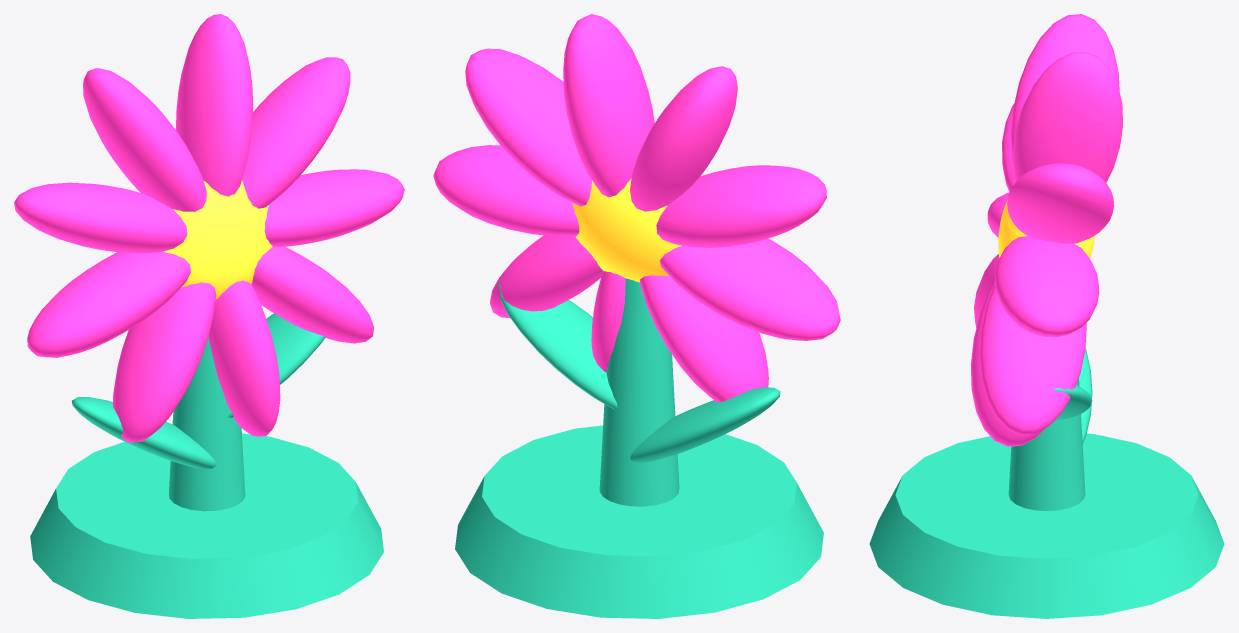
Rendered from cosmic-flower.glb.
3 views of the same model, side by side, from view 1: azimuth 30°, elevation 25°; view 2: azimuth 150°, elevation 25°; view 3: azimuth 270°, elevation 25° (orthographic). The views are drawn at different scales.
Parts seen in each view (by area): view 1: Base, Petalo_3, Petalo_6, Petalo_7, Petalo_2, Petalo_4, Petalo_5, Petalo_8, Petalo_1, Tallo, Petalo_9, Nucleo (+2 smaller); view 2: Base, Petalo_6, Tallo, Petalo_3, Petalo_2, Petalo_5, Petalo_4, Petalo_7, Petalo_1, Nucleo, Petalo_9, Hoja_derecha (+2 smaller); view 3: Base, Petalo_3, Petalo_9, Petalo_1, Petalo_2, Tallo, Petalo_4, Petalo_8, Nucleo, Hoja_derecha, Petalo_5, Petalo_7 (+2 smaller).
Boxes of the visible parts, box(x1,y1,x2,y2) form: Base: box(30, 433, 383, 618); Petalo_3: box(176, 14, 253, 196); Petalo_6: box(27, 251, 190, 357); Petalo_7: box(113, 282, 216, 442); Petalo_2: box(242, 57, 350, 208); Petalo_4: box(83, 68, 206, 211); Petalo_5: box(14, 182, 187, 253); Petalo_8: box(208, 280, 280, 436); Petalo_1: box(264, 169, 404, 246); Tallo: box(168, 337, 245, 511); Petalo_9: box(251, 246, 373, 343); Nucleo: box(163, 180, 272, 299); Base: box(455, 425, 823, 618); Petalo_6: box(660, 238, 840, 340); Tallo: box(599, 278, 679, 506); Petalo_3: box(563, 14, 654, 197); Petalo_2: box(465, 48, 591, 206); Petalo_5: box(656, 165, 826, 247); Petalo_4: box(630, 66, 737, 211); Petalo_7: box(640, 275, 768, 402); Petalo_1: box(433, 145, 579, 236); Nucleo: box(572, 178, 681, 282); Petalo_9: box(490, 235, 603, 318); Hoja_derecha: box(498, 282, 617, 409); Base: box(869, 433, 1224, 618); Petalo_3: box(1012, 52, 1122, 182); Petalo_9: box(979, 285, 1086, 434); Petalo_1: box(995, 236, 1099, 337); Petalo_2: box(1007, 163, 1114, 243); Tallo: box(1008, 378, 1085, 510); Petalo_4: box(1011, 14, 1119, 164); Petalo_8: box(971, 282, 1044, 446); Nucleo: box(998, 200, 1094, 258); Hoja_derecha: box(1053, 385, 1092, 420); Petalo_5: box(1002, 103, 1015, 192); Petalo_7: box(974, 254, 999, 327).
Bounding box in the file's own units: 0.2004 × 0.2581 × 0.164.
